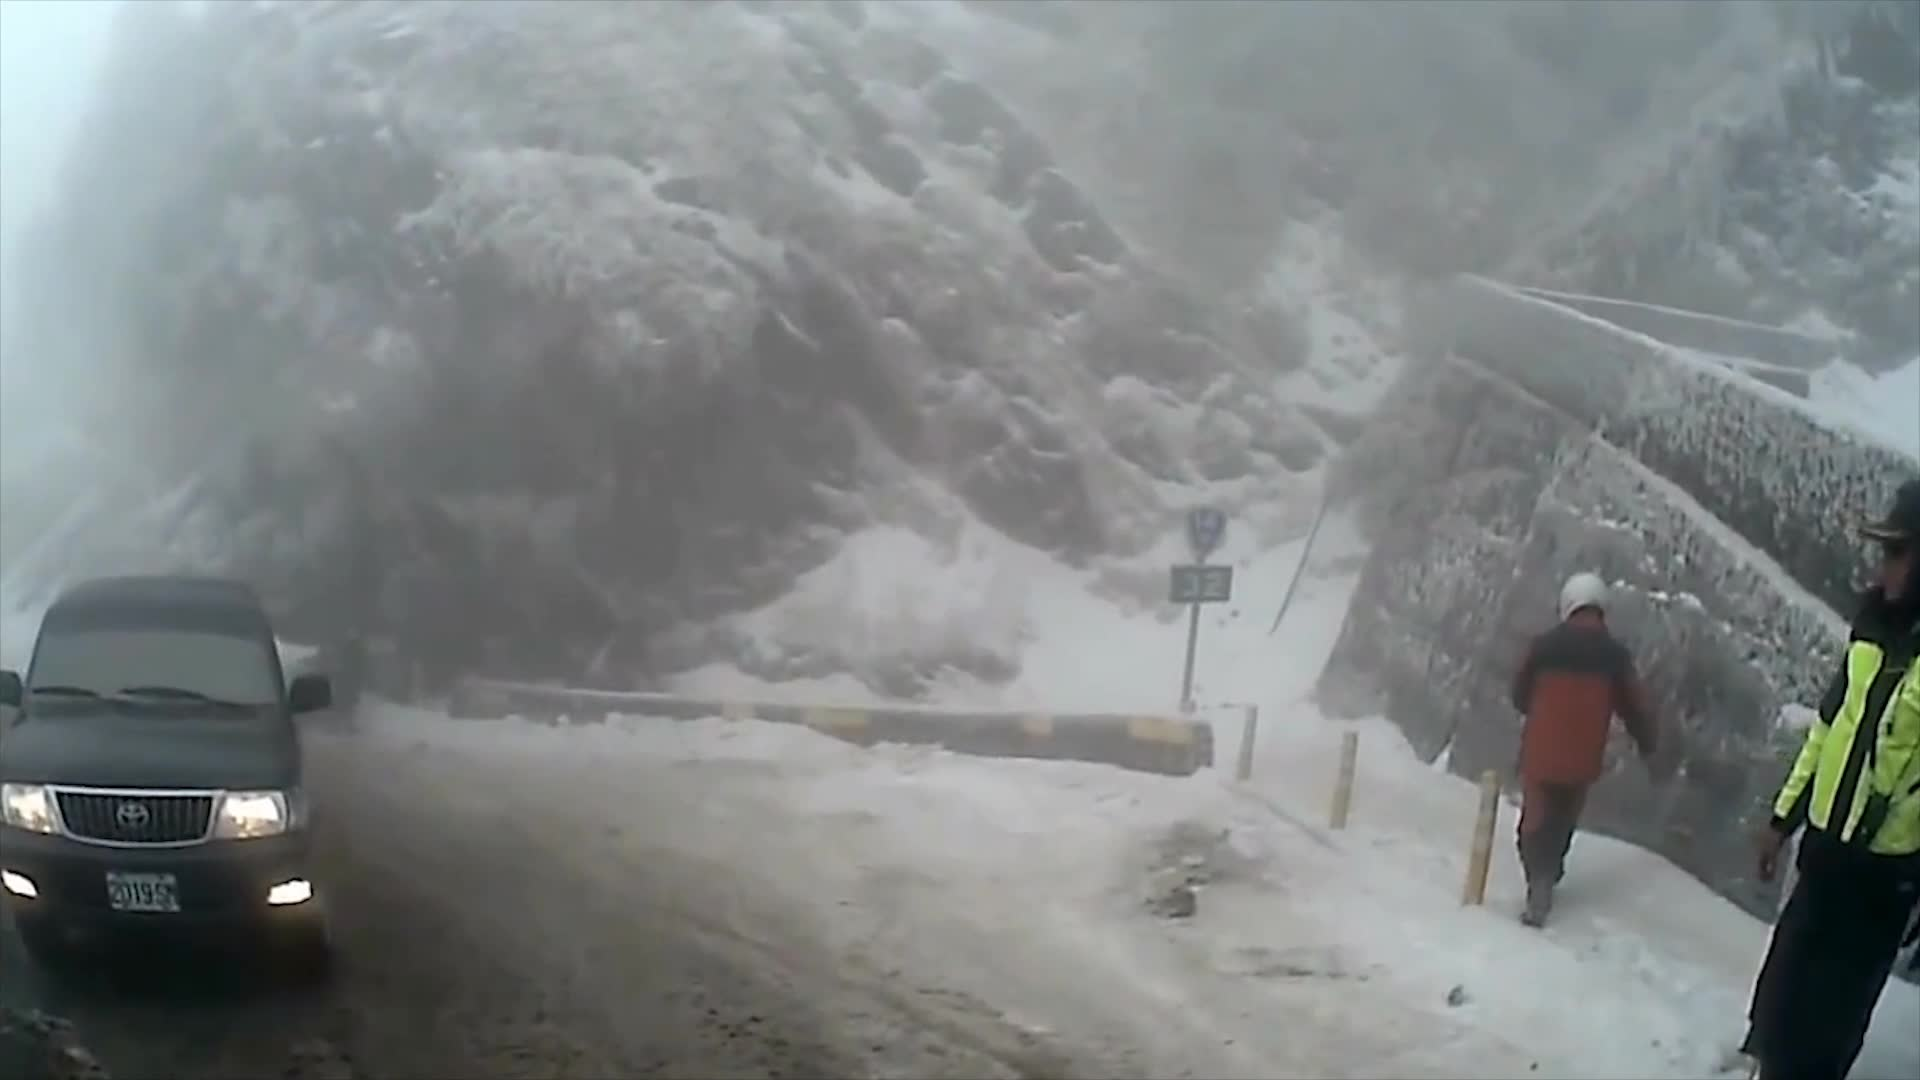pedestrian: (1722, 494, 1920, 1080), (1508, 571, 1653, 927)
vehicle: (0, 572, 333, 962)
